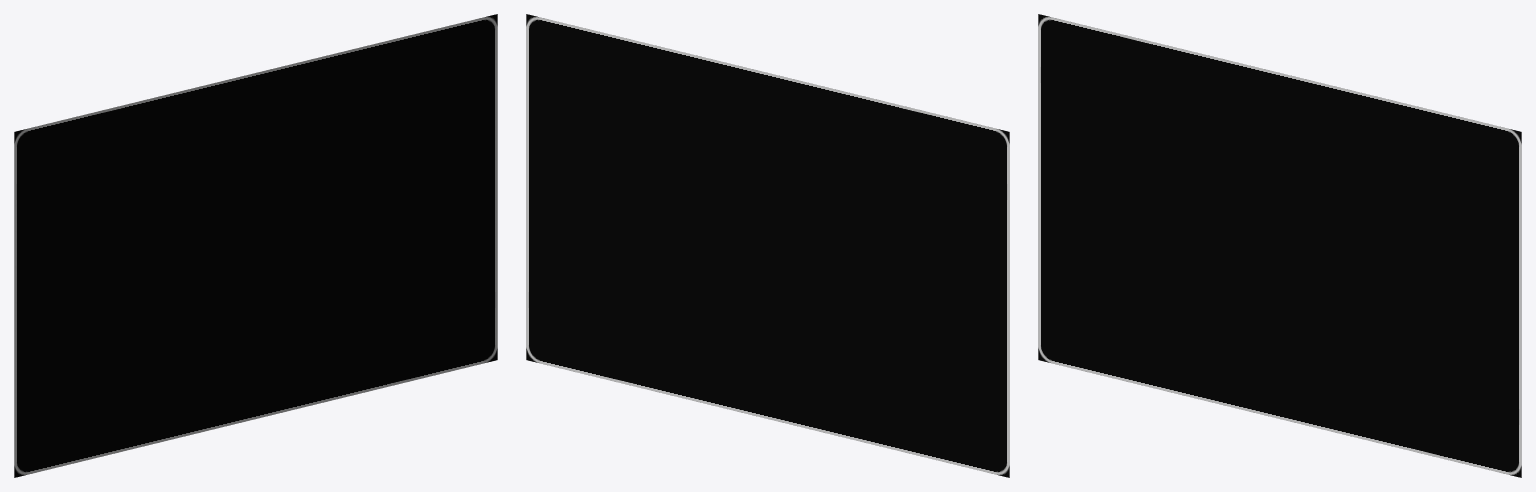
3 views of the same model, side by side, from view 1: azimuth 30°, elevation 25°; view 2: azimuth 150°, elevation 25°; view 3: azimuth 330°, elevation 25° (orthographic).
Visible parts, largest first — view 1: Joint_0_Object_0; view 2: Joint_0_Object_0; view 3: Joint_0_Object_0.
Part boxes in pixels (<box>): Joint_0_Object_0: <box>14,14,497,477</box>; Joint_0_Object_0: <box>526,14,1009,477</box>; Joint_0_Object_0: <box>1038,14,1521,477</box>.
Bounding box in the file's own units: 1680 × 1150 × 0.
1 material, 1 textured.
